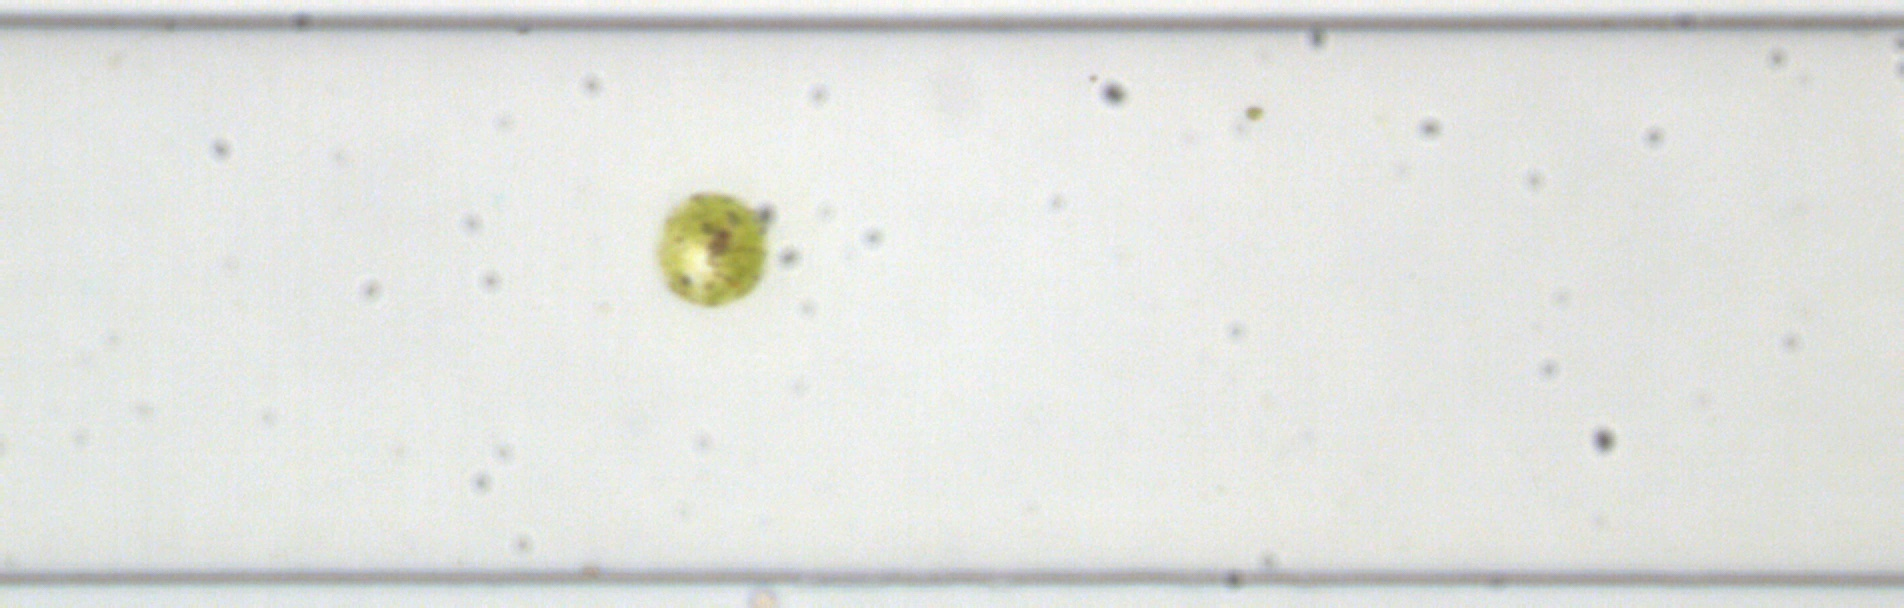Chlorella: (1243, 101, 1264, 123)
Haematococcus: (648, 184, 773, 312)
